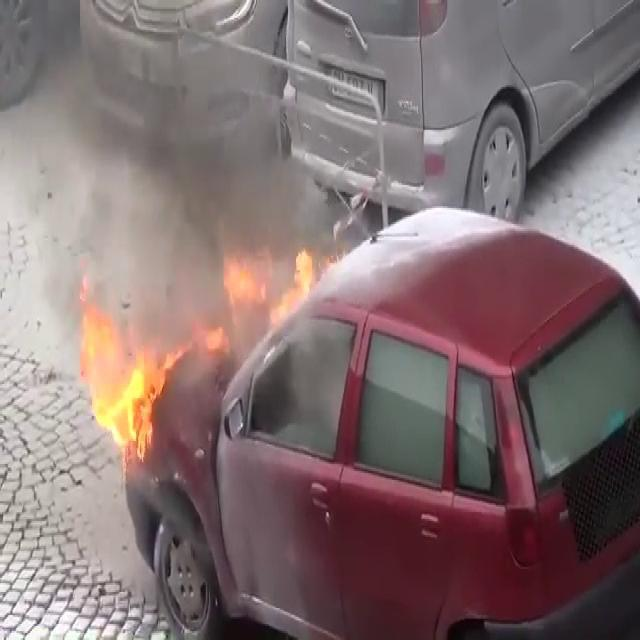Fire: (74, 297, 181, 459), (220, 240, 326, 334)
Smoke: (2, 0, 328, 308)
